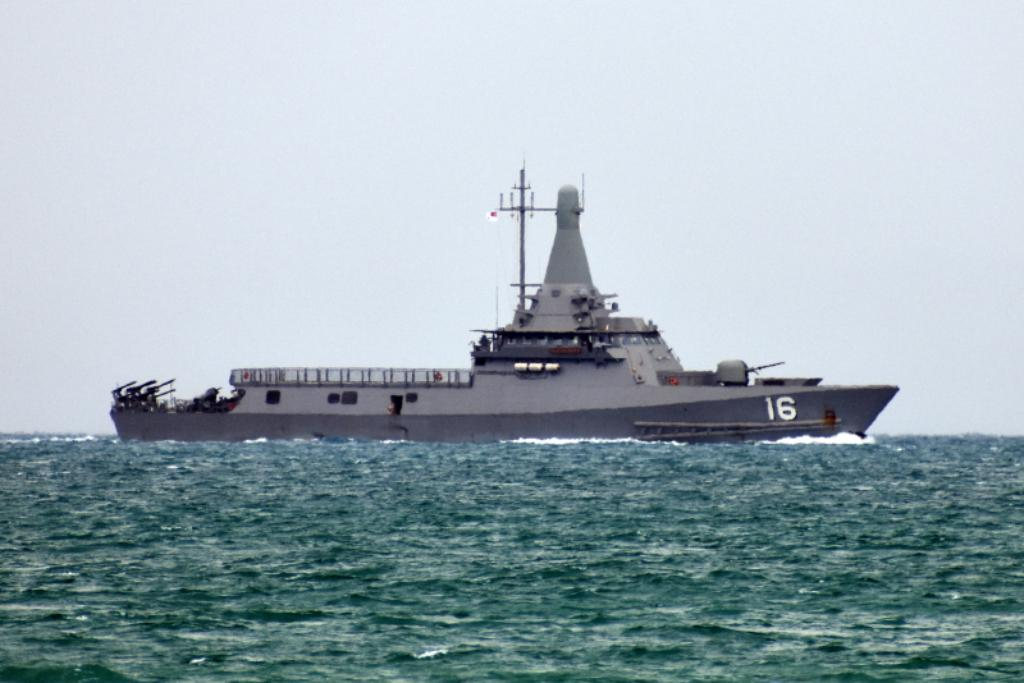Warship: (106, 161, 898, 445)
